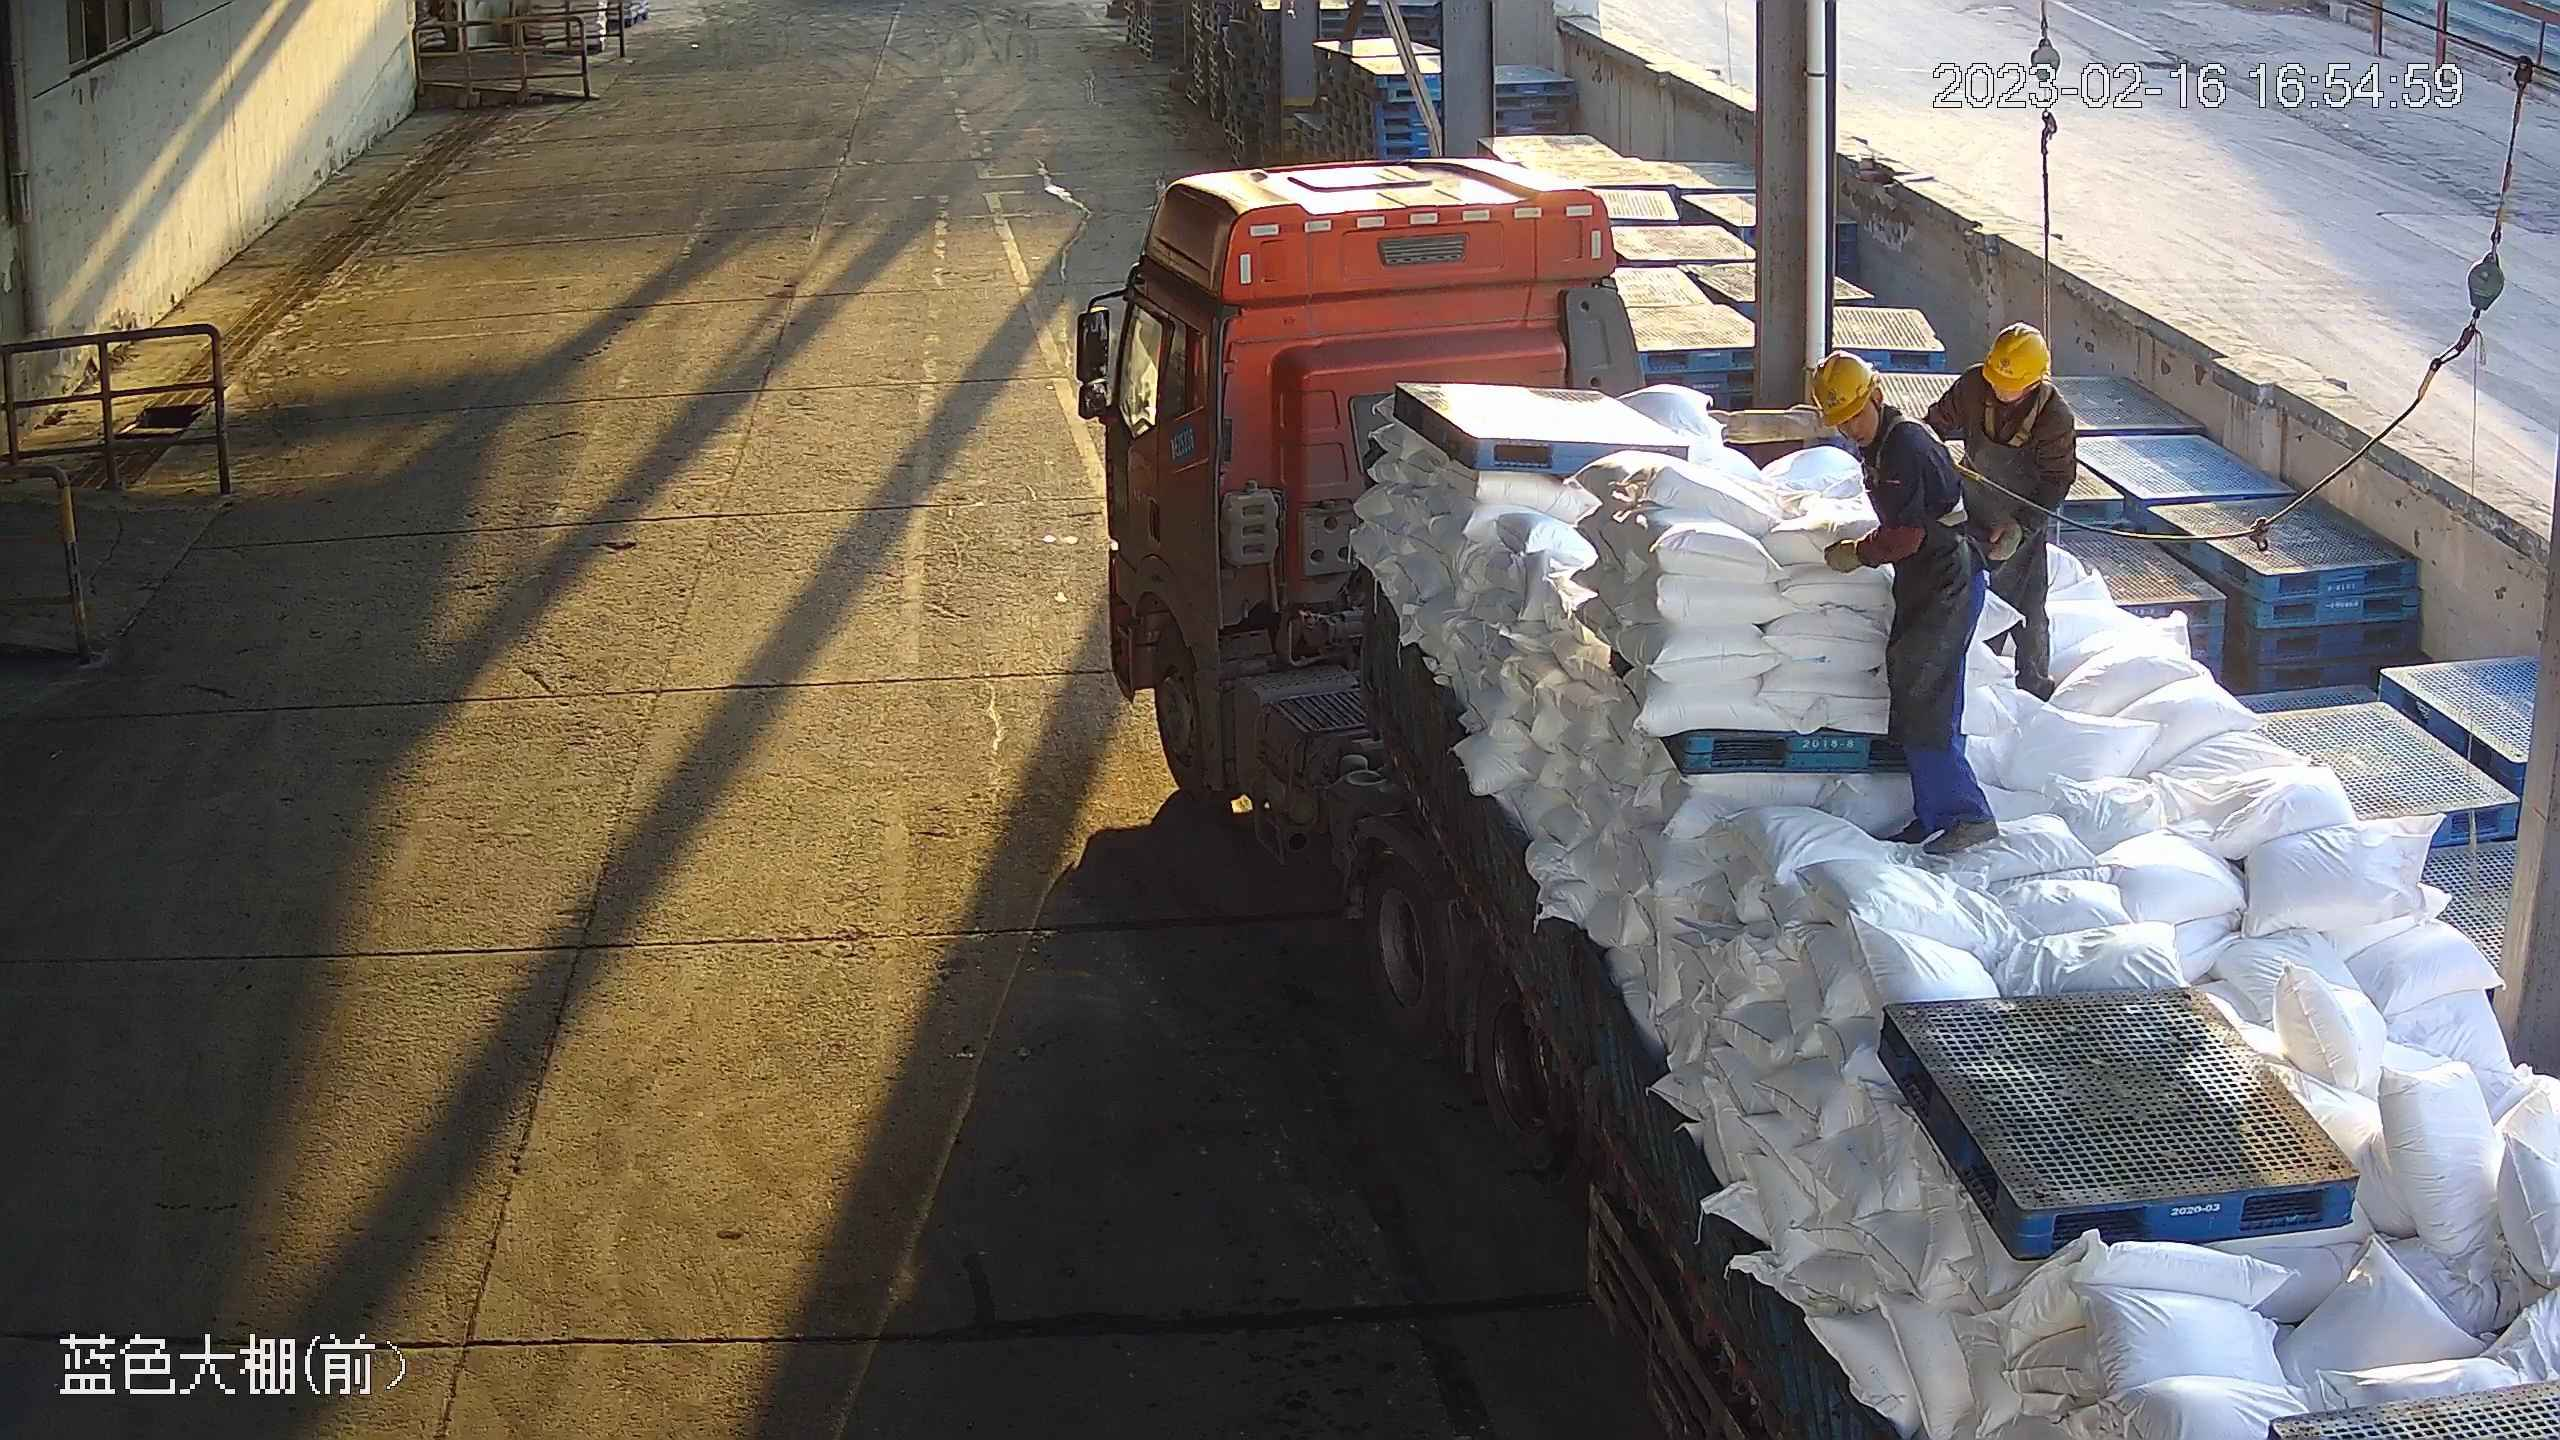belt: (1859, 415, 1980, 486), (1985, 382, 2057, 447)
head: (1809, 346, 1945, 481), (1952, 323, 2076, 430)
helmet: (1810, 347, 1872, 425), (1982, 322, 2048, 388)
people: (1810, 346, 2003, 858), (1920, 322, 2078, 705)
truck: (1074, 155, 2560, 1440)
